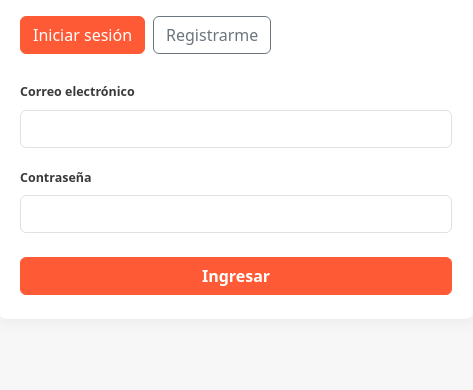
Scenario: AccountPanel › muestra el error cuando el login falla
The width and height of the screenshot is (473, 390).
Step 1. Type "a@a.com" into the field labelled "Correo electrónico" → (236, 129), box [20,110,452,148]
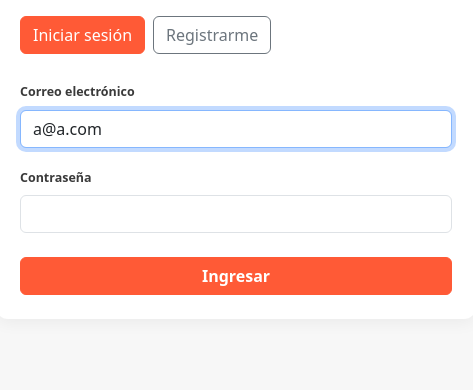
Step 2. Type "malapass" into the password field labelled "Contraseña" → (236, 214), box [20,195,452,233]
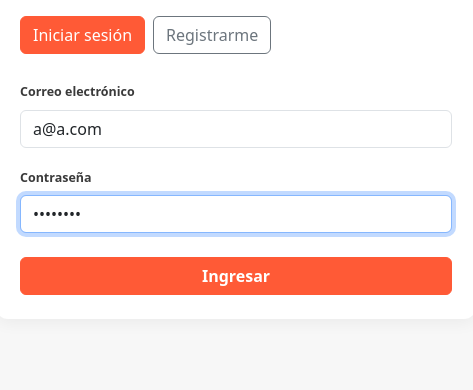
Step 3. Click the button "Ingresar" → (236, 276), box [20,257,452,295]
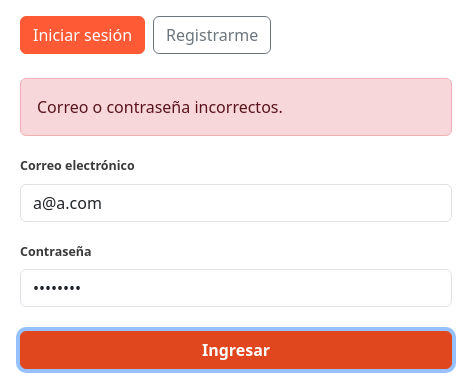
Expected: the text "Correo o contraseña incorrectos." is shown, [20,78,452,136]
